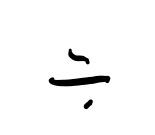div: (47, 49, 109, 109)
